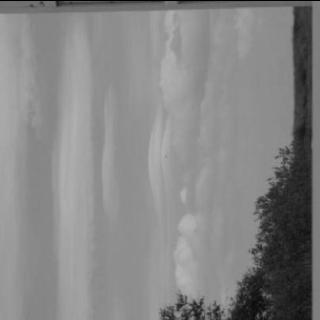Altocumulus: (0, 9, 271, 320)
